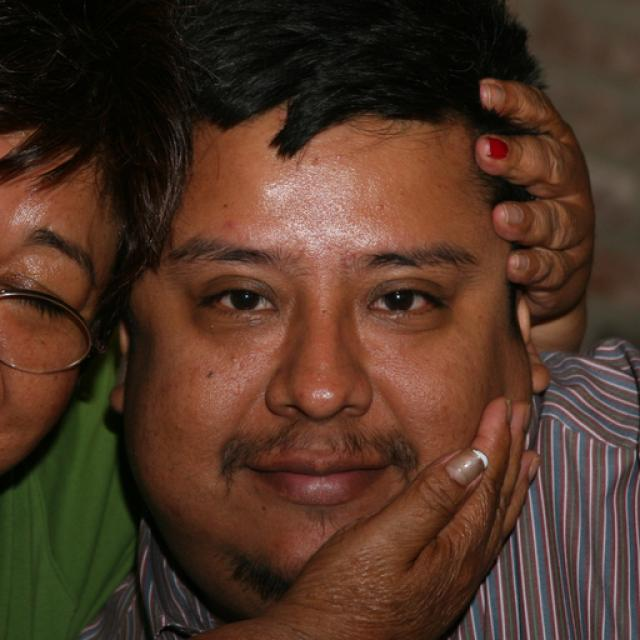Acne: (373, 199, 390, 215), (227, 350, 240, 365)
Dark Circle: (198, 308, 274, 335), (361, 312, 446, 336)
